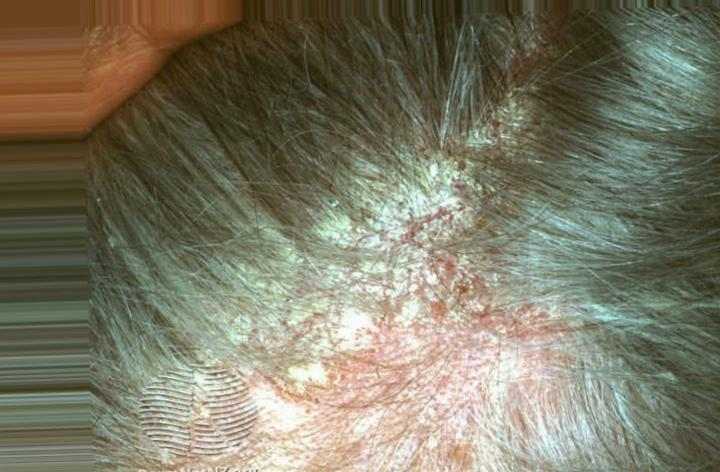Contact Dermatitis: (210, 179, 544, 466)
